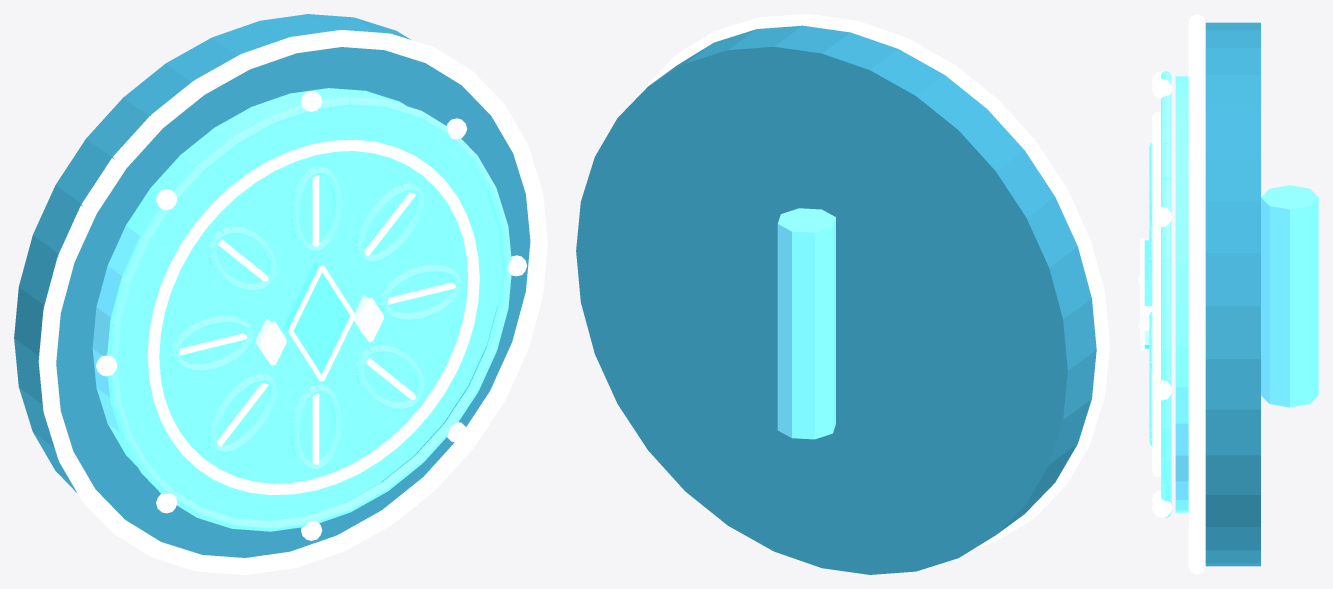
The model's file is bildmaster_cleric_shield_hologram_v2.glb.
The picture shows the model from 3 angles, left to right: view 1: azimuth 30°, elevation 25°; view 2: azimuth 150°, elevation 25°; view 3: azimuth 270°, elevation 25°; orthographic projection. The views are drawn at different scales.
Visible parts, largest first — view 1: cleric_shield_metal, cleric_shield_core, cleric_shield_white, cleric_shield_aqua, cleric_shield_glass, cleric_shield_light; view 2: cleric_shield_core, cleric_shield_metal, cleric_shield_white; view 3: cleric_shield_core, cleric_shield_metal, cleric_shield_white, cleric_shield_aqua, cleric_shield_glass, cleric_shield_light.
Boxes of the visible parts, left/top/right/bottom form: cleric_shield_metal: left=92, top=88, right=501, bottom=520; cleric_shield_core: left=14, top=14, right=530, bottom=557; cleric_shield_white: left=38, top=30, right=547, bottom=574; cleric_shield_aqua: left=107, top=97, right=511, bottom=531; cleric_shield_glass: left=284, top=262, right=349, bottom=375; cleric_shield_light: left=255, top=295, right=378, bottom=359; cleric_shield_core: left=576, top=25, right=1096, bottom=574; cleric_shield_metal: left=777, top=208, right=835, bottom=439; cleric_shield_white: left=640, top=14, right=1109, bottom=548; cleric_shield_core: left=1205, top=22, right=1260, bottom=566; cleric_shield_metal: left=1175, top=76, right=1318, bottom=512; cleric_shield_white: left=1138, top=14, right=1205, bottom=574; cleric_shield_aqua: left=1149, top=71, right=1171, bottom=517; cleric_shield_glass: left=1144, top=240, right=1152, bottom=348; cleric_shield_light: left=1144, top=306, right=1152, bottom=344.
Size of the model in its own units: 0.82 by 0.82 by 0.2637.
